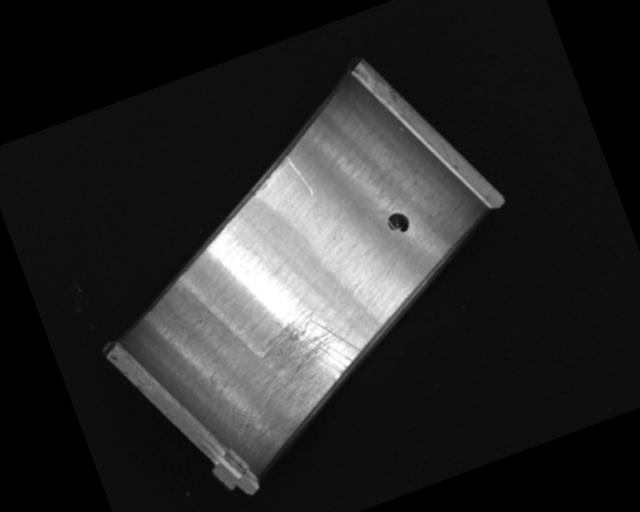blot: (384, 208, 413, 237)
nick: (285, 152, 314, 198)
scratch: (237, 297, 381, 444)
